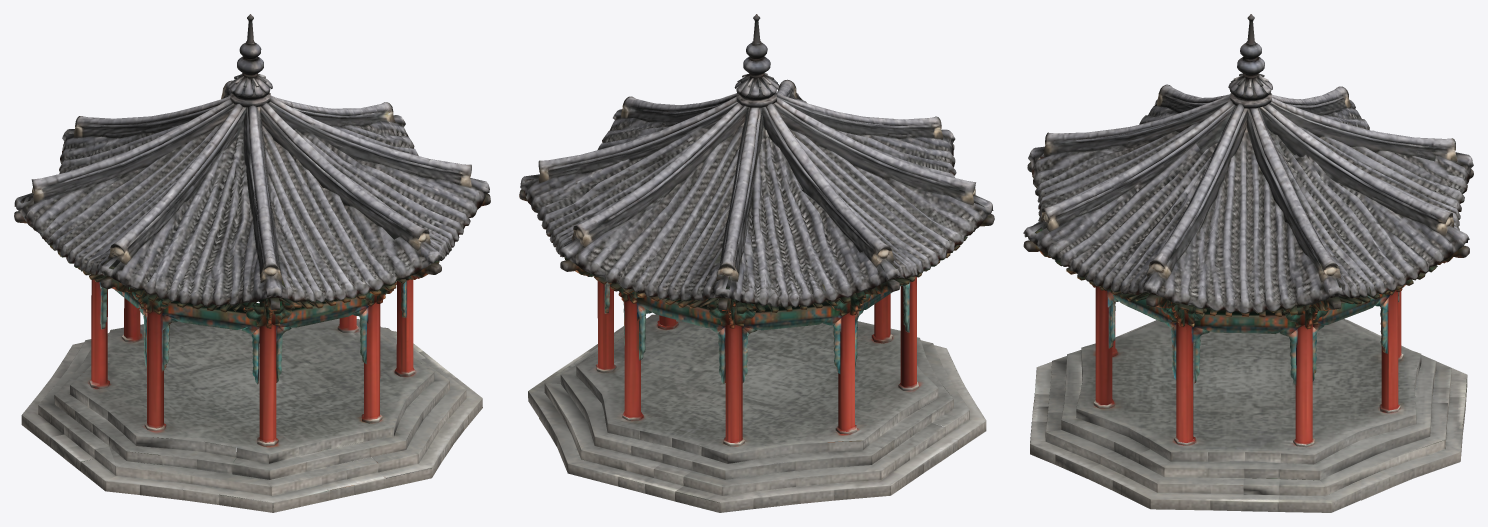
File: pagoda.glb
3 views of the same model, side by side, from view 1: azimuth 30°, elevation 25°; view 2: azimuth 150°, elevation 25°; view 3: azimuth 270°, elevation 25° (orthographic).
Visible parts, largest first — view 1: tripo_node_8489124a-82e8-4f24-b28b-88be51ab88dc; view 2: tripo_node_8489124a-82e8-4f24-b28b-88be51ab88dc; view 3: tripo_node_8489124a-82e8-4f24-b28b-88be51ab88dc.
Part boxes in pixels (box(x1,y1,x2,y2)): tripo_node_8489124a-82e8-4f24-b28b-88be51ab88dc: box(14, 14, 490, 512); tripo_node_8489124a-82e8-4f24-b28b-88be51ab88dc: box(519, 14, 994, 512); tripo_node_8489124a-82e8-4f24-b28b-88be51ab88dc: box(1023, 14, 1473, 512).
Bounding box in the file's own units: 0.9995 × 0.9927 × 0.9985.
1 material, 1 textured.
